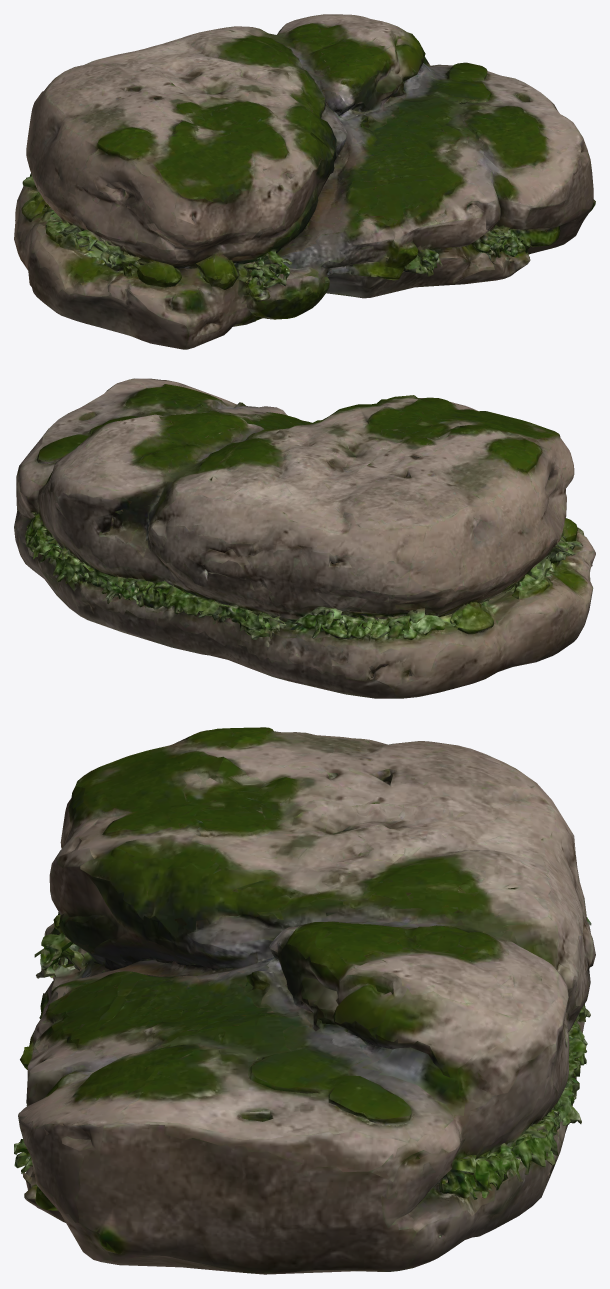
File: moss-bank-v3-lod.glb
3 views of the same model, one above another, from view 1: azimuth 30°, elevation 25°; view 2: azimuth 150°, elevation 25°; view 3: azimuth 270°, elevation 25° (orthographic). The views are drawn at different scales.
Parts seen in each view (by area): view 1: geometry_0; view 2: geometry_0; view 3: geometry_0.
Boxes of the visible parts, bbox=[...] form: geometry_0: bbox=[14, 14, 595, 349]; geometry_0: bbox=[14, 378, 595, 698]; geometry_0: bbox=[14, 727, 595, 1274].
Bounding box in the file's own units: 0.45 × 0.1511 × 0.3022.
Materials: 1 (1 with a texture image).
